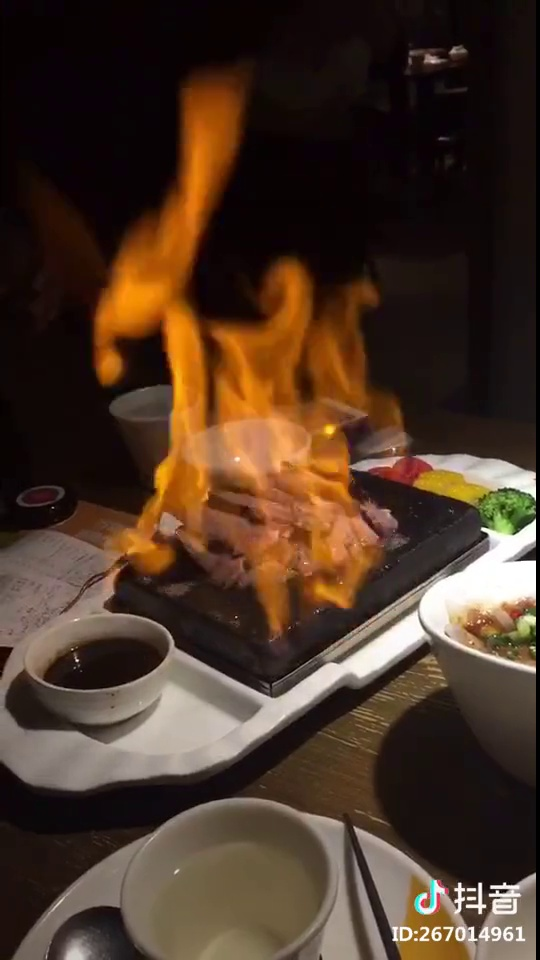fire: (92, 256, 372, 493)
